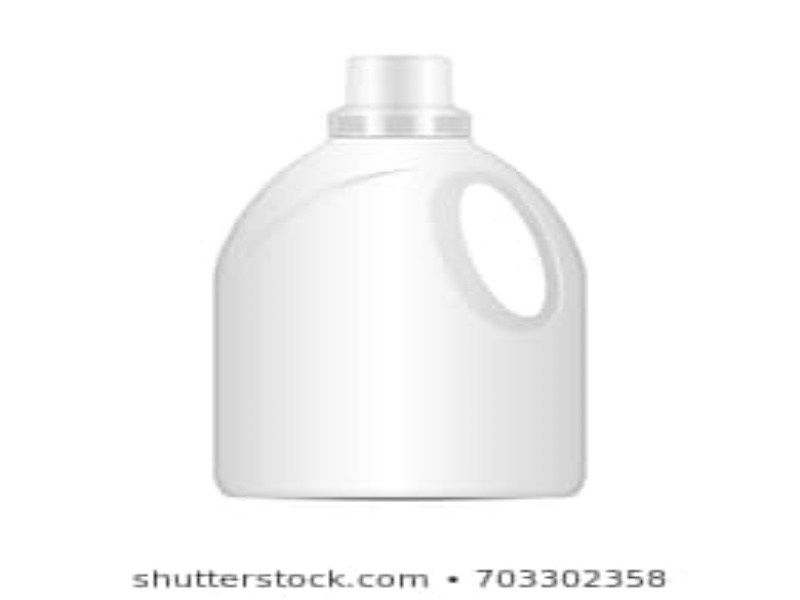detergent-bottle: (212, 53, 586, 496)
